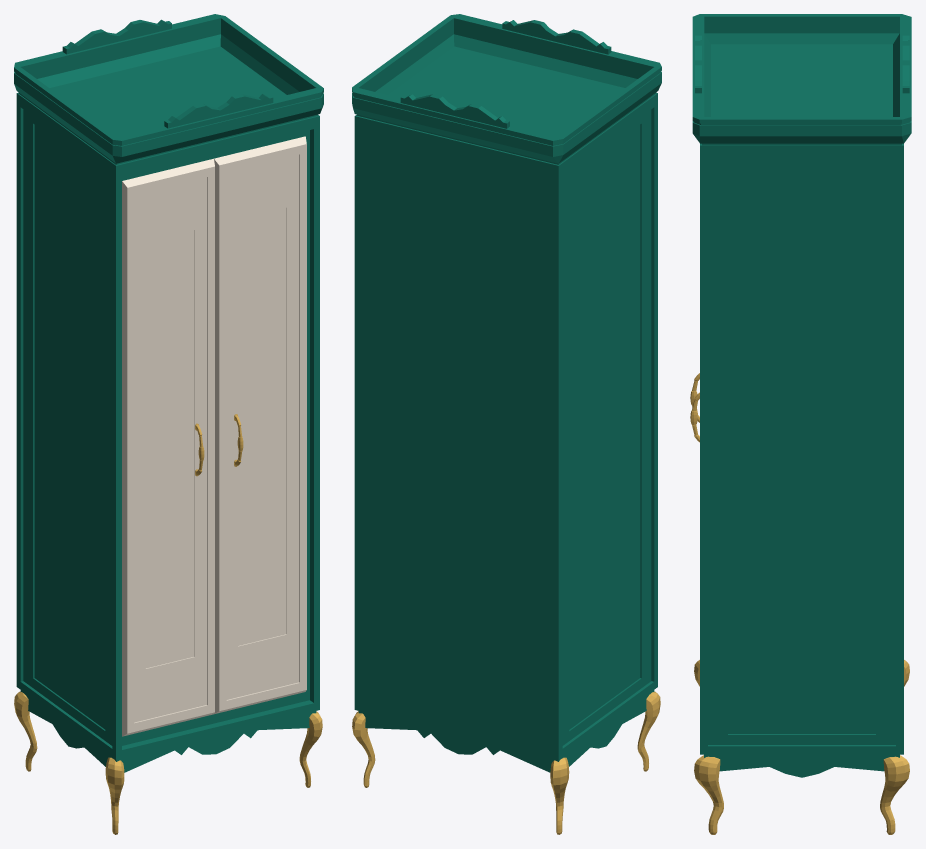
File: pantry_a.glb
3 renders of one model, left to right at view 1: azimuth 30°, elevation 25°; view 2: azimuth 150°, elevation 25°; view 3: azimuth 270°, elevation 25°, orthographic. The views are drawn at different scales.
Visible parts, largest first — view 1: body; view 2: body; view 3: body.
Part boxes in pixels (bbox=[...]): body: bbox=[14, 14, 323, 834]; body: bbox=[352, 14, 661, 834]; body: bbox=[690, 14, 911, 834].
Bounding box in the file's own units: 0.64 × 2.05 × 0.56.
